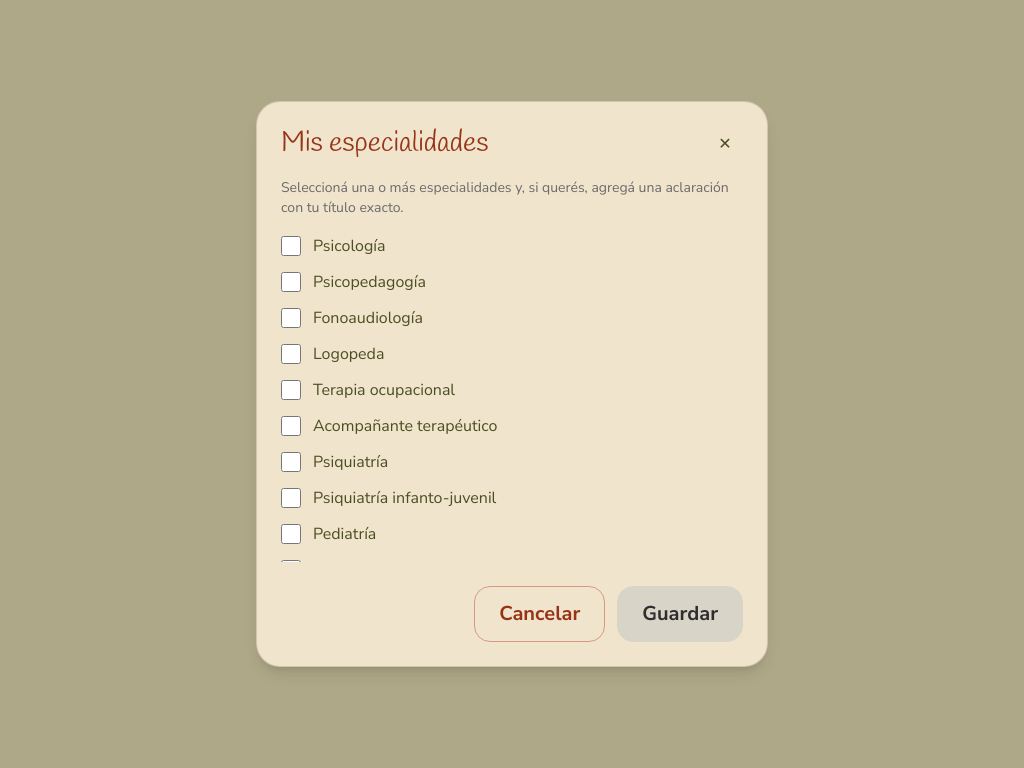
Test case: EspecialidadModal › muestra campo de aclaración al seleccionar una especialidad
Click the checkbox labelled "Psicología" at (291,246), box [281,236,301,256]
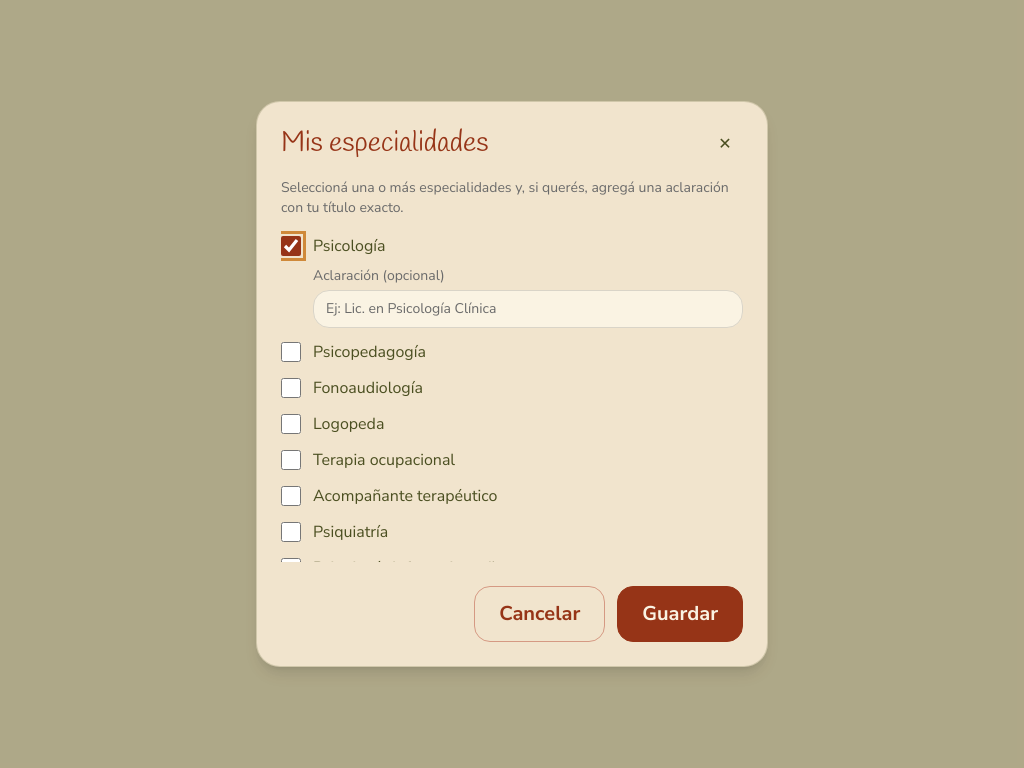
Expected: the field labelled "Aclaración (opcional)" is shown, [313,290,743,328]
